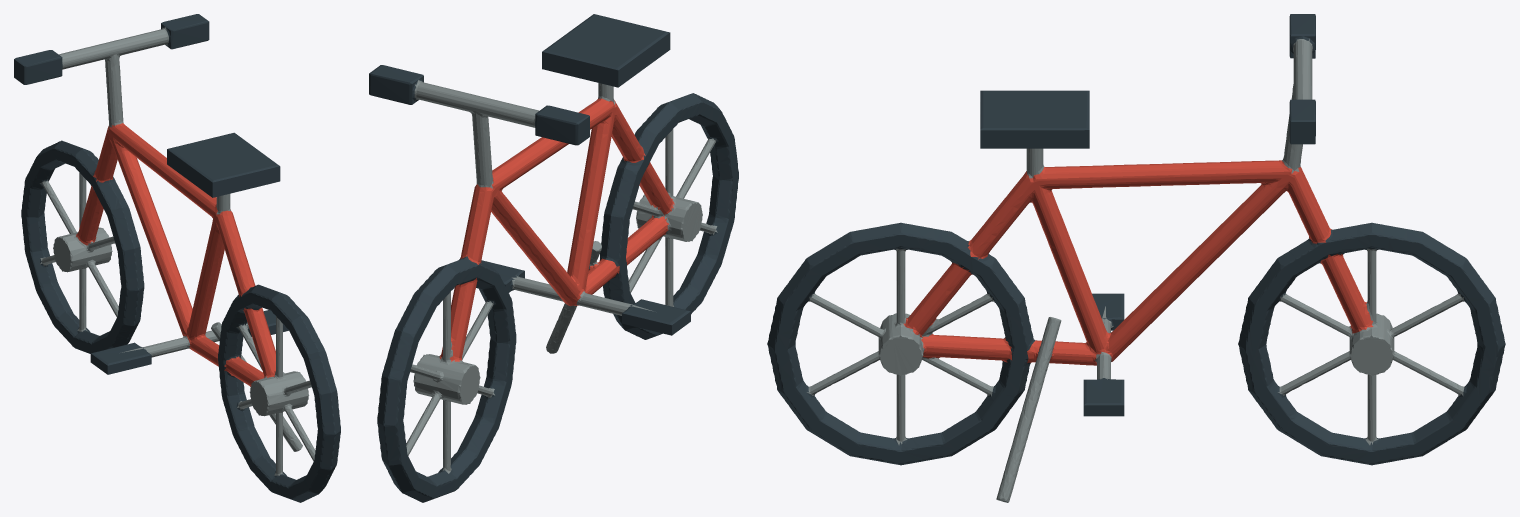
Rendered from bicycle.glb.
3 renders of one model, left to right at view 1: azimuth 30°, elevation 25°; view 2: azimuth 150°, elevation 25°; view 3: azimuth 270°, elevation 25°, orthographic. The views are drawn at different scales.
Visible parts, largest first — view 1: bicycle; view 2: bicycle; view 3: bicycle.
Boxes of the visible parts, left/top/right/bottom form: bicycle: left=14, top=14, right=340, bottom=502; bicycle: left=369, top=14, right=738, bottom=502; bicycle: left=767, top=14, right=1505, bottom=502.
Size of the model in its own units: 0.65 by 1.09 by 1.82.
